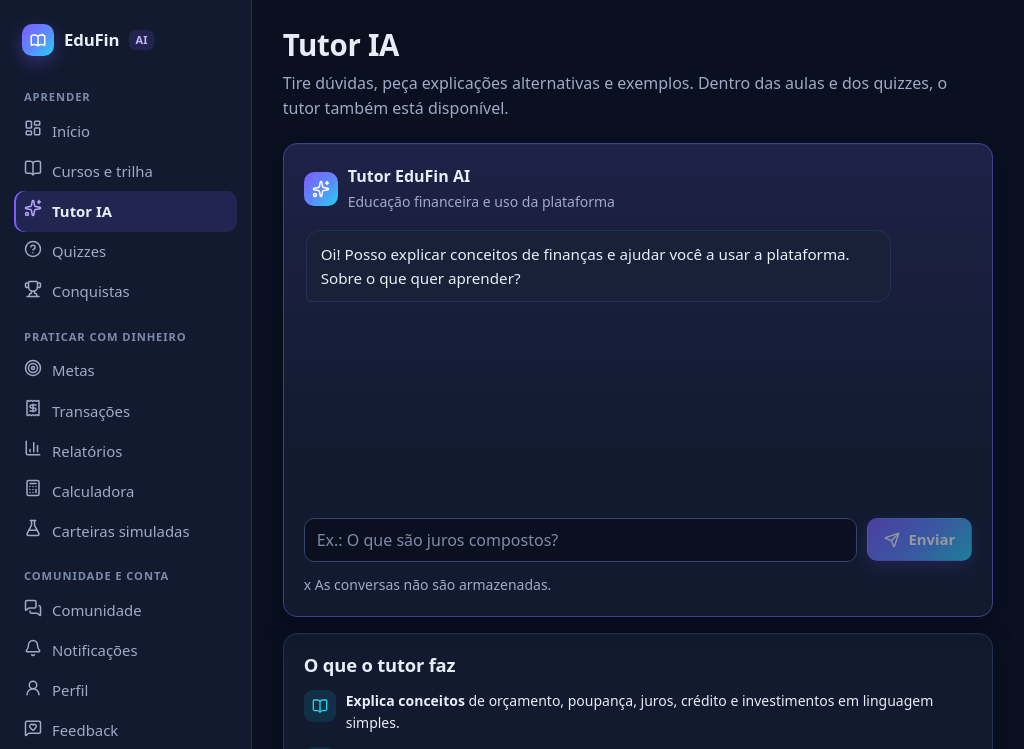
Test: tutor › informa indisponibilidade quando o limite de uso é atingido
Type "o que é juros?" into the field named "Sua pergunta" at (581, 540), box [304,518,857,562]
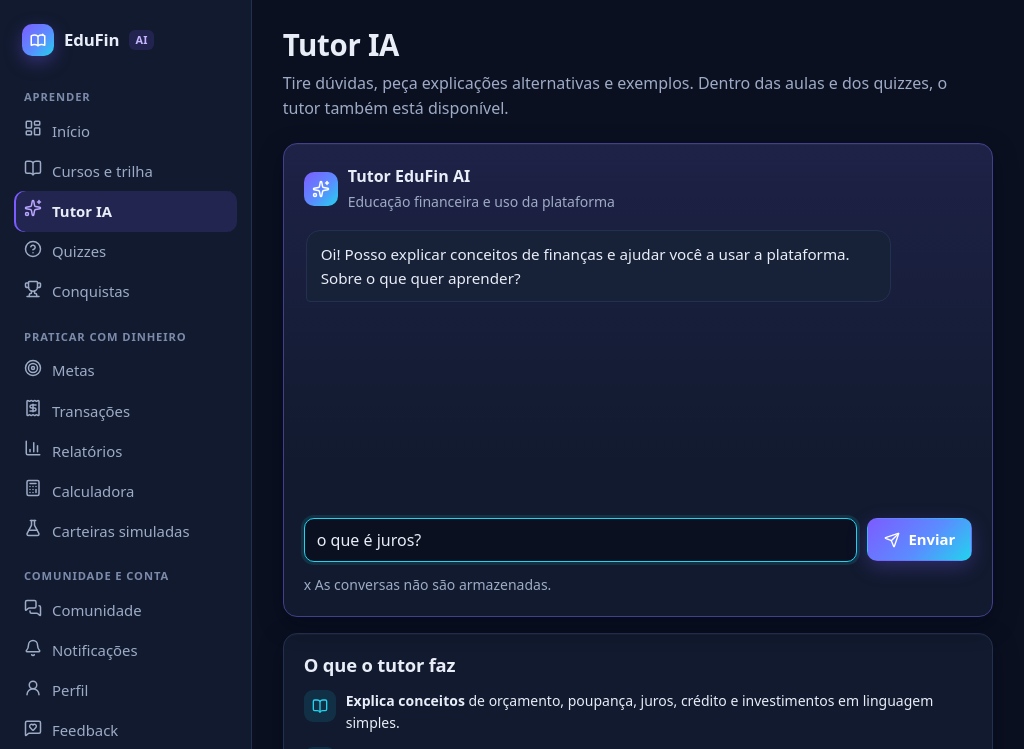
Click the button with aria-label "Enviar pergunta" at (920, 540), box [867,518,972,561]
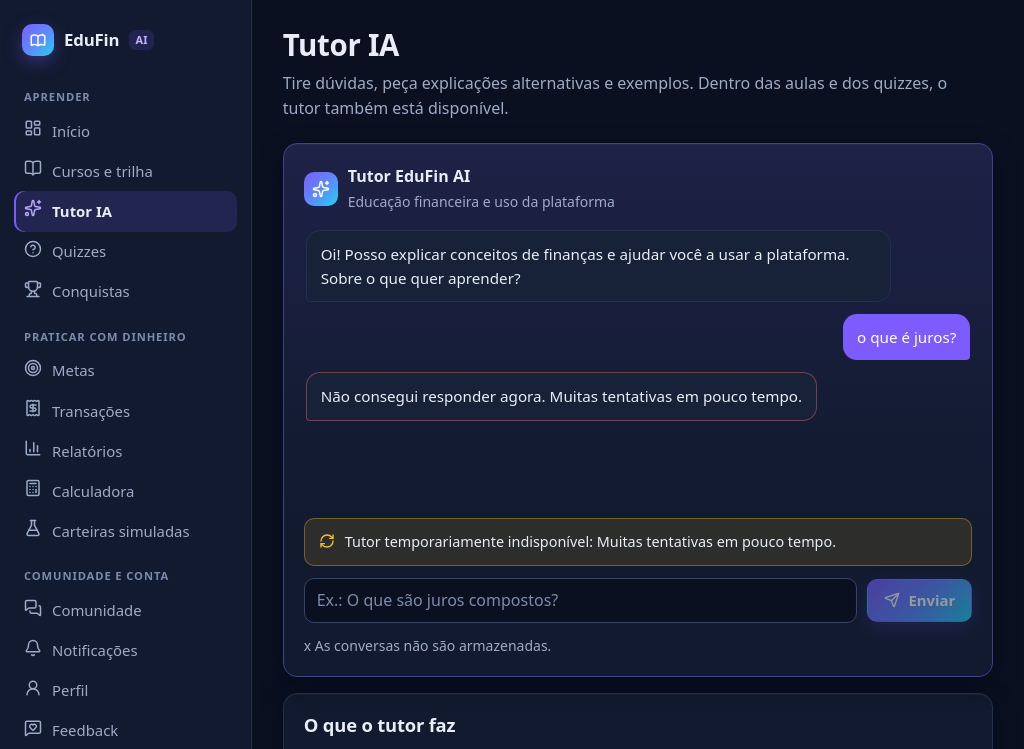
Expected: the text "Tutor temporariamente indisponível" is shown, [345,532,597,550]
